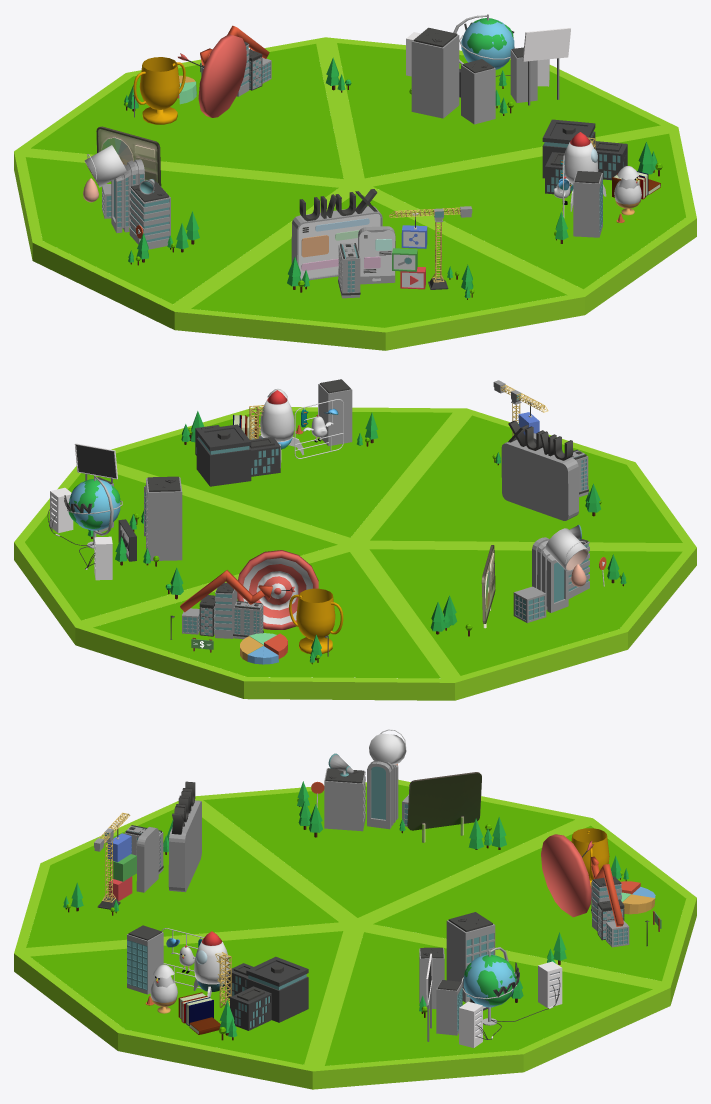
3 renders of one model, top to bottom at view 1: azimuth 30°, elevation 25°; view 2: azimuth 150°, elevation 25°; view 3: azimuth 270°, elevation 25°, orthographic. The views are drawn at different scales.
Parts seen in each view (by area): view 1: GROUND.001, Commercial building lowpoly 08.038, Text.002, Cube.051, Text.001, Commercial building lowpoly 05.013, Sphere.008, Cylinder.002, Cube.071, Cylinder.024, Cube.090, Cube.050; view 2: GROUND.001, Commercial building lowpoly 08.038, Cube.051, Text.002, Text.001, Commercial building lowpoly 05.013, Sphere.008, Cube.050, Cylinder.024, Cube.090, Sphere.002, Cylinder.002; view 3: GROUND.001, Commercial building lowpoly 08.038, Cube.051, Text.001, Text.002, Cylinder.002, Commercial building lowpoly 05.013, Sphere.008, Cube.090, Cylinder.024, Cube.071, Cube.002 (+2 smaller).
Part boxes in pixels (x1,y1,x2,y2): GROUND.001: (14,37,696,350); Commercial building lowpoly 08.038: (102,27,627,298); Text.002: (291,189,395,284); Cube.051: (133,25,269,124); Text.001: (406,18,570,105); Commercial building lowpoly 05.013: (124,57,657,299); Sphere.008: (556,132,641,218); Cylinder.002: (96,126,161,186); Cube.071: (392,225,427,289); Cylinder.024: (83,145,154,242); Cube.090: (389,137,624,289); Cube.050: (124,62,662,297); GROUND.001: (14,406,696,700); Commercial building lowpoly 08.038: (97,379,589,639); Cube.051: (170,550,343,656); Text.002: (501,420,578,520); Text.001: (50,443,136,580); Commercial building lowpoly 05.013: (88,411,626,664); Sphere.008: (259,389,343,467); Cube.050: (134,428,622,664); Cylinder.024: (545,524,606,586); Cube.090: (249,380,548,439); Sphere.002: (47,475,122,569); Cylinder.002: (481,545,495,628); GROUND.001: (14,779,696,1089); Commercial building lowpoly 08.038: (124,760,629,1035); Cube.051: (541,828,649,946); Text.001: (426,953,562,1047); Text.002: (136,781,201,892); Cylinder.002: (407,772,481,842); Commercial building lowpoly 05.013: (63,781,628,1040); Sphere.008: (150,928,229,1013); Cube.090: (94,812,231,1007); Cylinder.024: (311,729,406,807); Cube.071: (108,833,136,901); Cube.002: (178,992,220,1034).
Bounding box in the file's own units: 3.46 × 0.5534 × 3.43.
96 materials, 20 textured.
